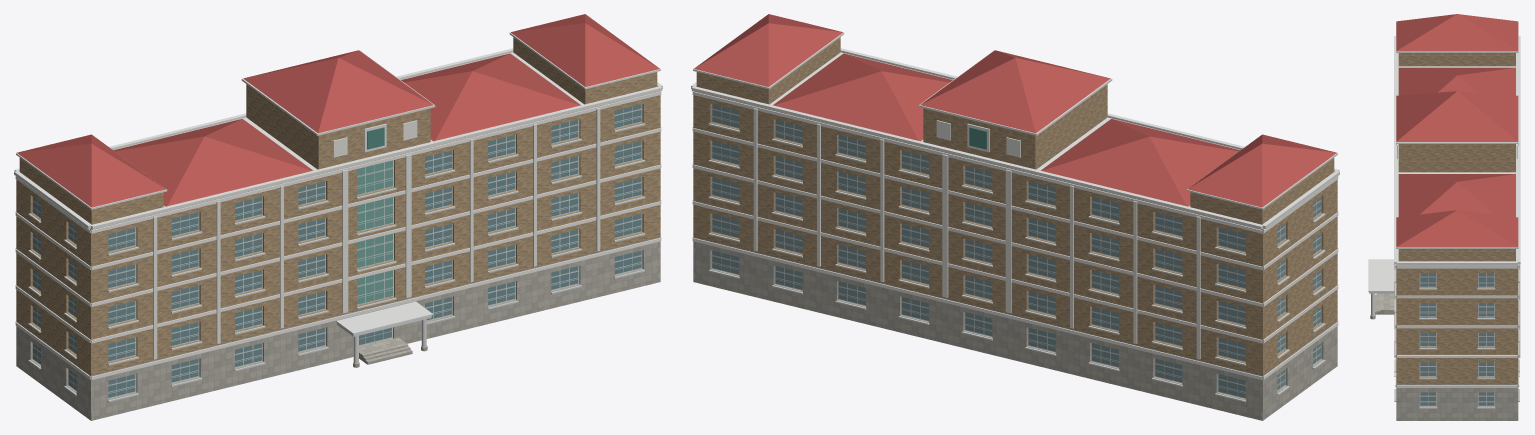
3 views of the same model, side by side, from view 1: azimuth 30°, elevation 25°; view 2: azimuth 150°, elevation 25°; view 3: azimuth 270°, elevation 25° (orthographic). The views are drawn at different scales.
Visible parts, largest first — view 1: main__cream, main__roof, main__stone, main__glass, main__band, main__frame, main__cap, main__panel, main__sill, main__tealglass, main__sideglass, main__stair-front; view 2: main__cream, main__roof, main__sideglass, main__stone, main__band, main__frame, main__cap, main__panel, main__sill; view 3: main__roof, main__cream, main__cap, main__stone, main__band, main__sideglass, main__frame, main__sill, main__panel, main__threshold-front, main__stair-front.
Part boxes in pixels (<box>): main__cream: <box>16,37,660,375</box>; main__roof: <box>17,14,659,207</box>; main__stone: <box>16,237,660,420</box>; main__glass: <box>108,104,641,397</box>; main__band: <box>15,91,661,379</box>; main__frame: <box>32,104,642,398</box>; main__cap: <box>14,32,662,363</box>; main__panel: <box>153,108,600,359</box>; main__sill: <box>28,123,645,402</box>; main__tealglass: <box>357,160,392,304</box>; main__sideglass: <box>33,197,76,390</box>; main__stair-front: <box>361,343,412,364</box>; main__cream: <box>693,37,1337,375</box>; main__roof: <box>694,14,1336,207</box>; main__sideglass: <box>712,104,1320,397</box>; main__stone: <box>693,237,1337,420</box>; main__band: <box>692,91,1338,379</box>; main__frame: <box>711,104,1321,398</box>; main__cap: <box>691,32,1339,229</box>; main__panel: <box>753,108,1200,359</box>; main__sill: <box>708,123,1325,402</box>; main__roof: <box>1396,14,1518,247</box>; main__cream: <box>1396,53,1518,384</box>; main__cap: <box>1368,22,1520,315</box>; main__stone: <box>1370,315,1518,420</box>; main__band: <box>1395,264,1519,387</box>; main__sideglass: <box>1420,273,1494,405</box>; main__frame: <box>1419,273,1494,406</box>; main__sill: <box>1394,269,1519,408</box>; main__panel: <box>1394,144,1520,357</box>; main__threshold-front: <box>1383,293,1394,314</box>; main__stair-front: <box>1375,293,1383,314</box>.
Bounding box in the file's own units: 57.5 × 25.46 × 16.23.
Materials: 14 (2 with a texture image).
